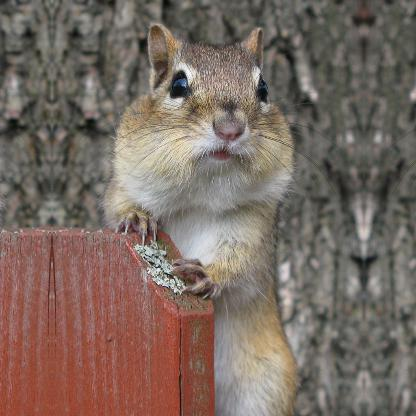Squirrel: (88, 21, 350, 415)
